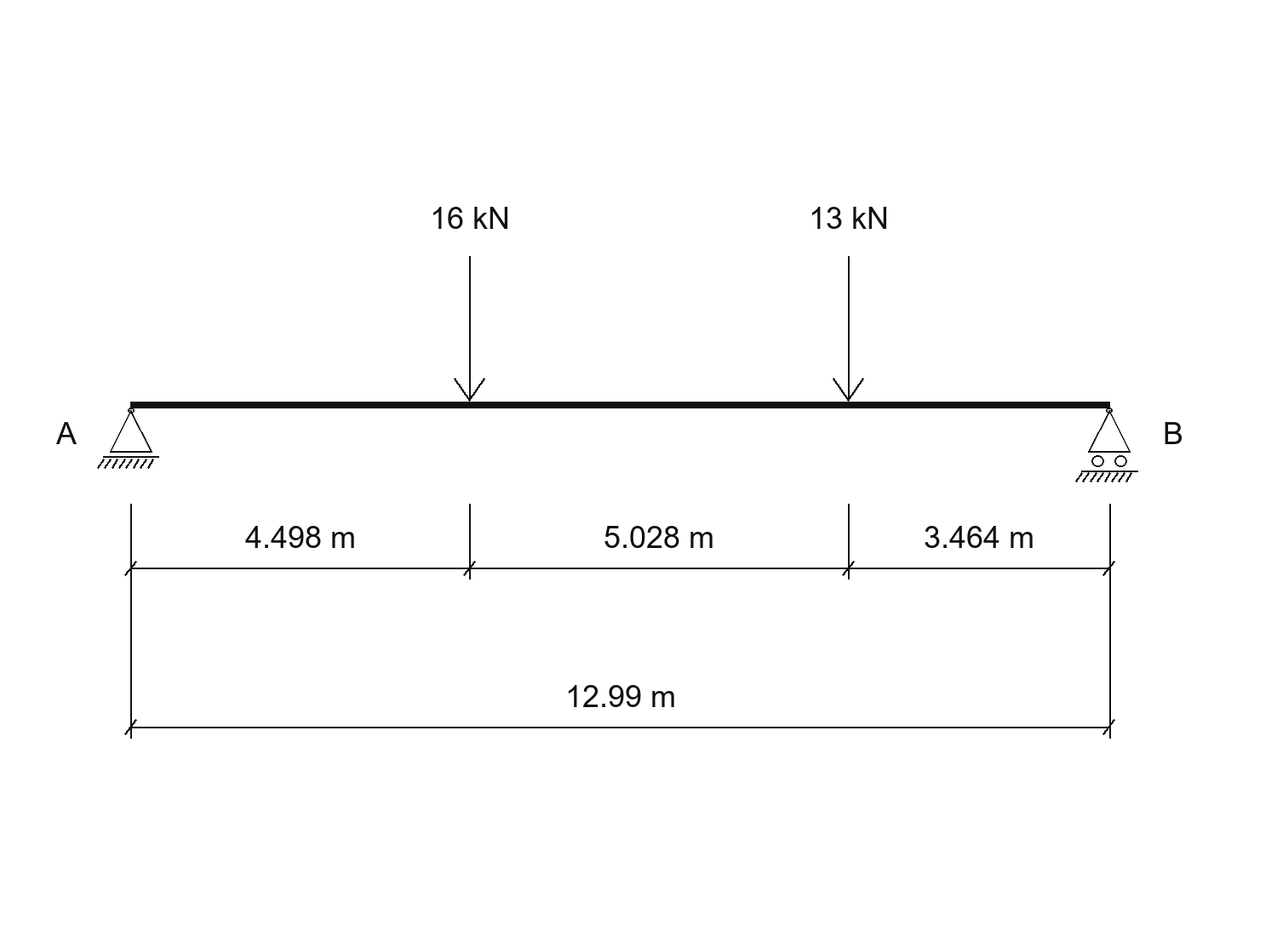pin_support: (97, 408, 159, 469)
point_load: (454, 256, 485, 402), (833, 256, 864, 402)
roller_support: (1075, 408, 1138, 482)
